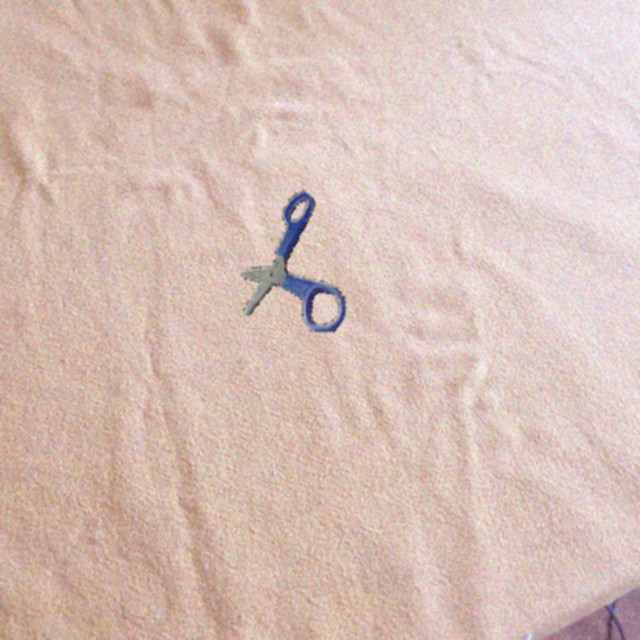scissors: (241, 190, 346, 332)
